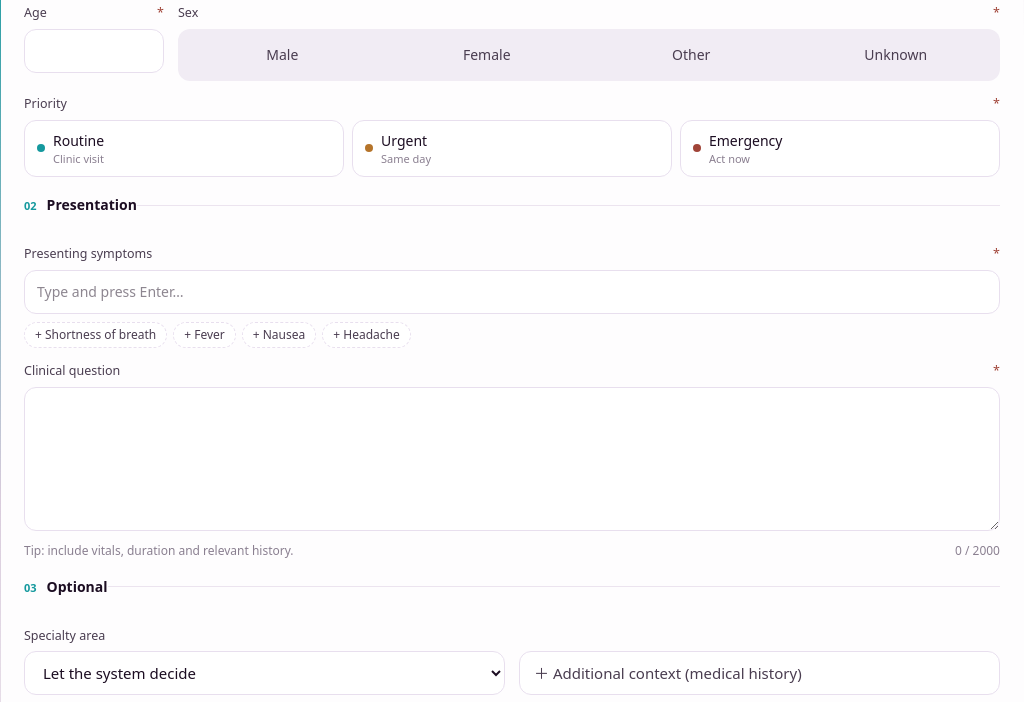
Test: ConsultationForm › shows an error summary, keeps input, and focuses the first error
The width and height of the screenshot is (1024, 702).
Type "154" into the field labelled "Age *" at (94, 51), box [24,29,164,73]
(page scrolled)
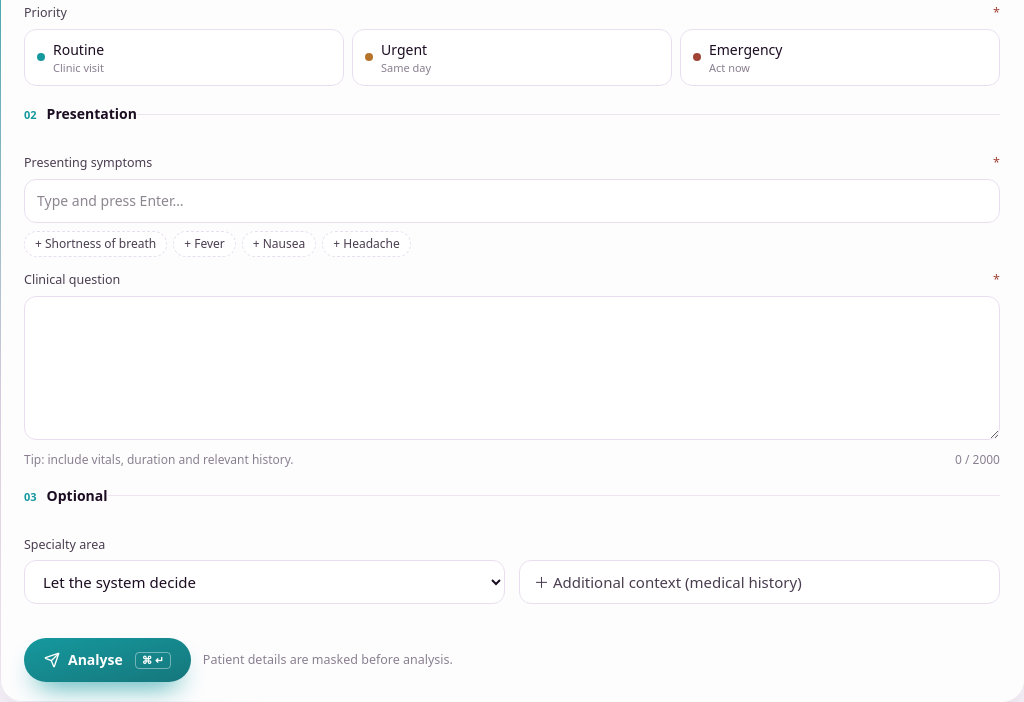
Click the button "Analyse ⌘ ↵" at (107, 660), box [24,638,191,682]
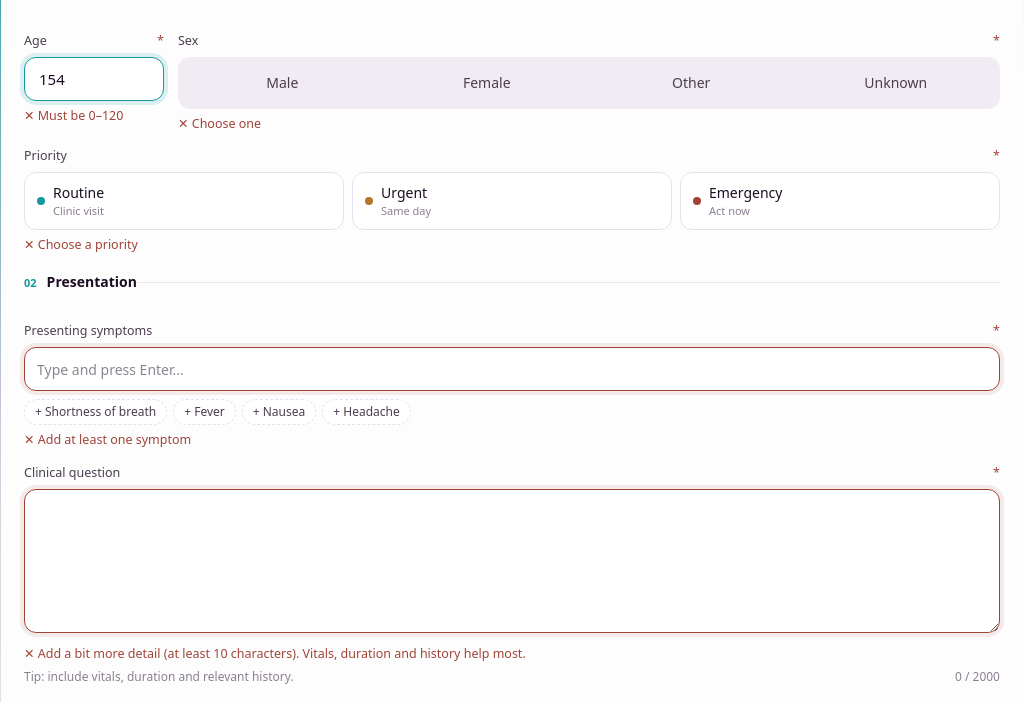
Check: the text "✕ Must be 0–120" is shown, box [24,107,123,124]
